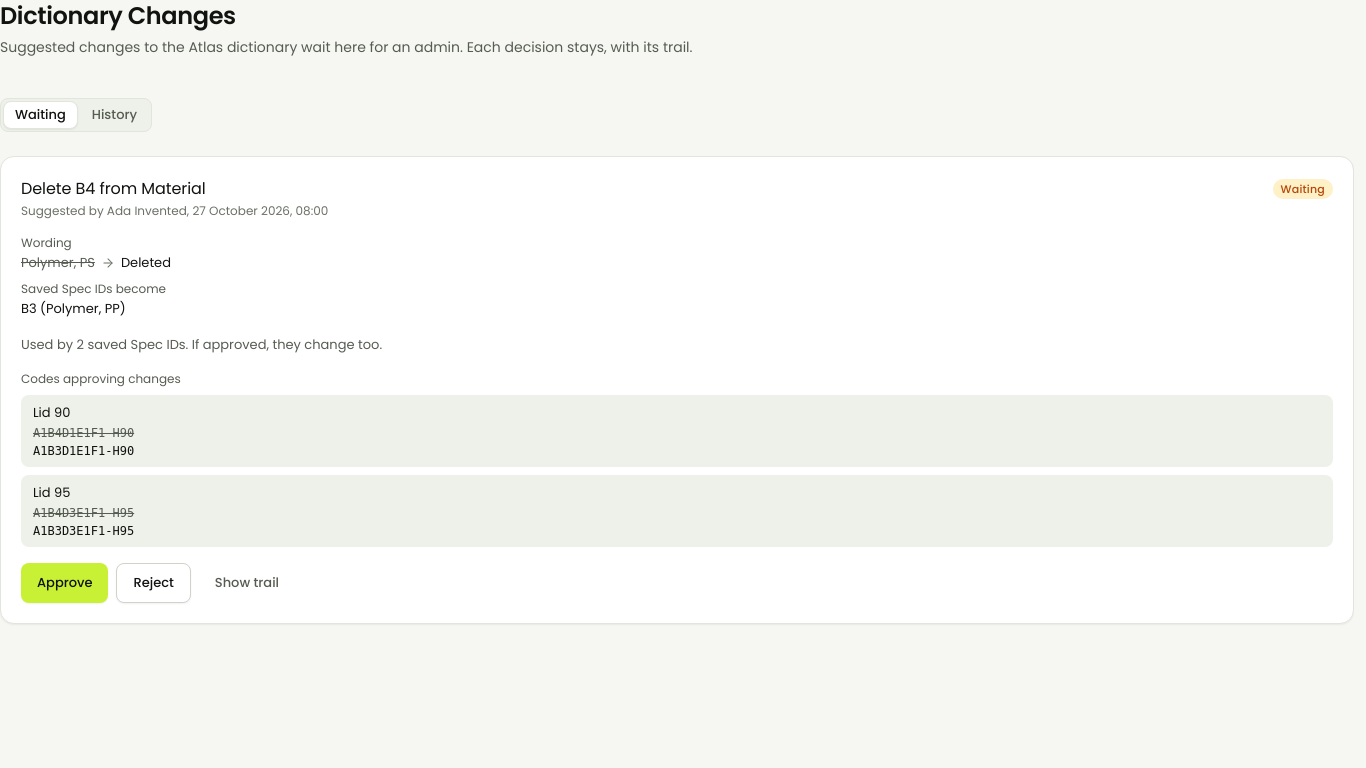
Scenario: DictionaryChangesPage › opens the trail: who suggested it, and what each edit changed
Click the button "Show trail": (247, 583) [199,563,295,603]
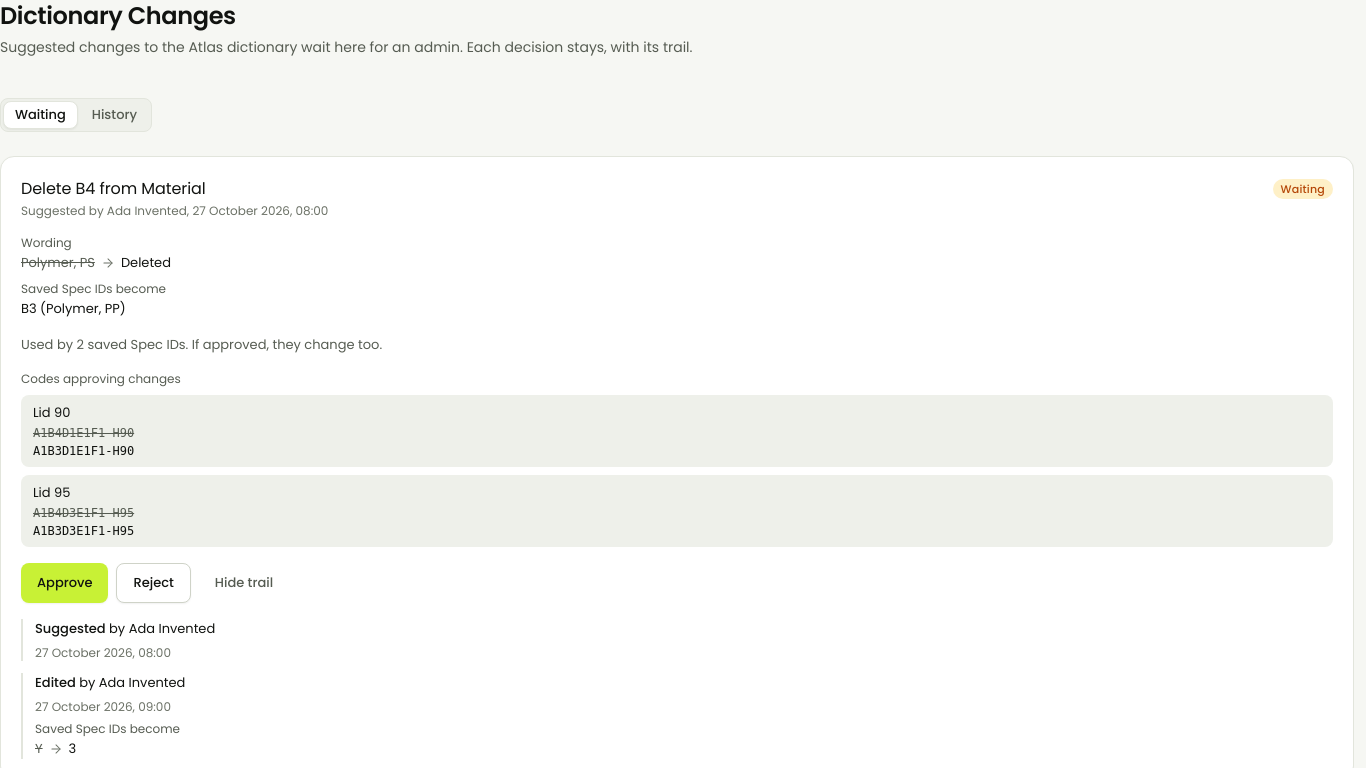
Expected: the text "Suggested" is shown, [35,619,106,638]
Expected: the text "Edited" is shown, [35,673,76,692]
Expected: the text "Y" is shown, [35,739,43,759]
